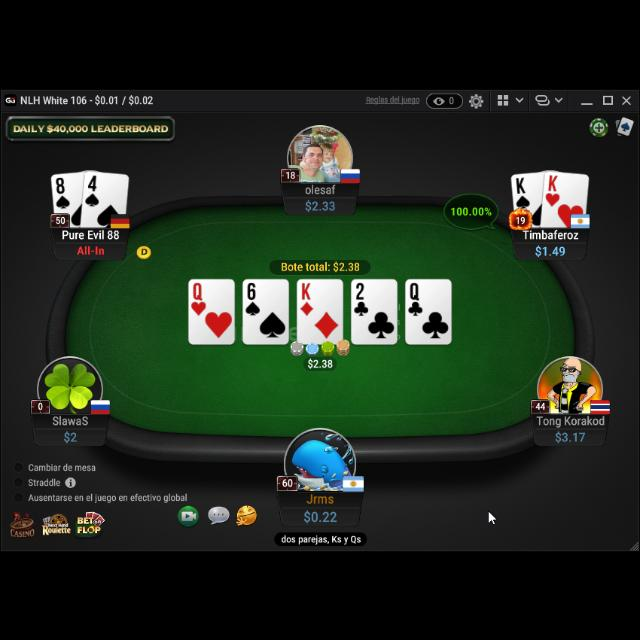2c: (353, 280, 369, 316)
4s: (84, 173, 100, 207)
6s: (245, 282, 261, 316)
8s: (56, 177, 70, 210)
Kd: (300, 282, 314, 316)
Kh: (544, 172, 562, 208)
Ks: (516, 176, 532, 207)
Qc: (406, 282, 424, 316)
Qh: (189, 280, 207, 316)
all_in_symbol: (76, 242, 106, 255)
bet_text: (308, 356, 334, 368)
dealer: (134, 241, 154, 259)
pot_text: (280, 259, 362, 271)
stack_text: (302, 506, 338, 524), (553, 428, 587, 442), (304, 197, 336, 211), (534, 242, 566, 256), (64, 427, 78, 441)
